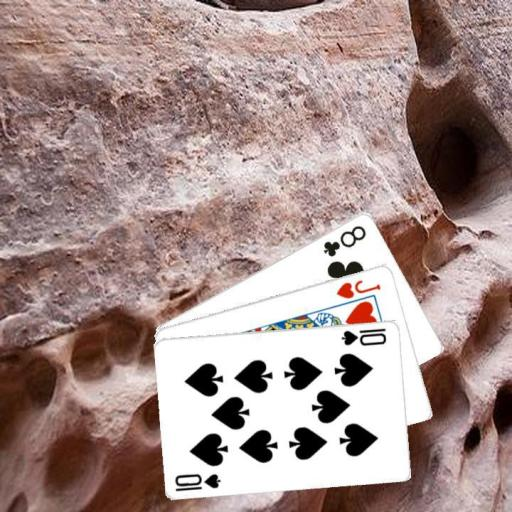10S: (339, 324, 389, 347), (172, 470, 223, 492)
8C: (320, 222, 368, 258)
JH: (334, 276, 383, 300)
